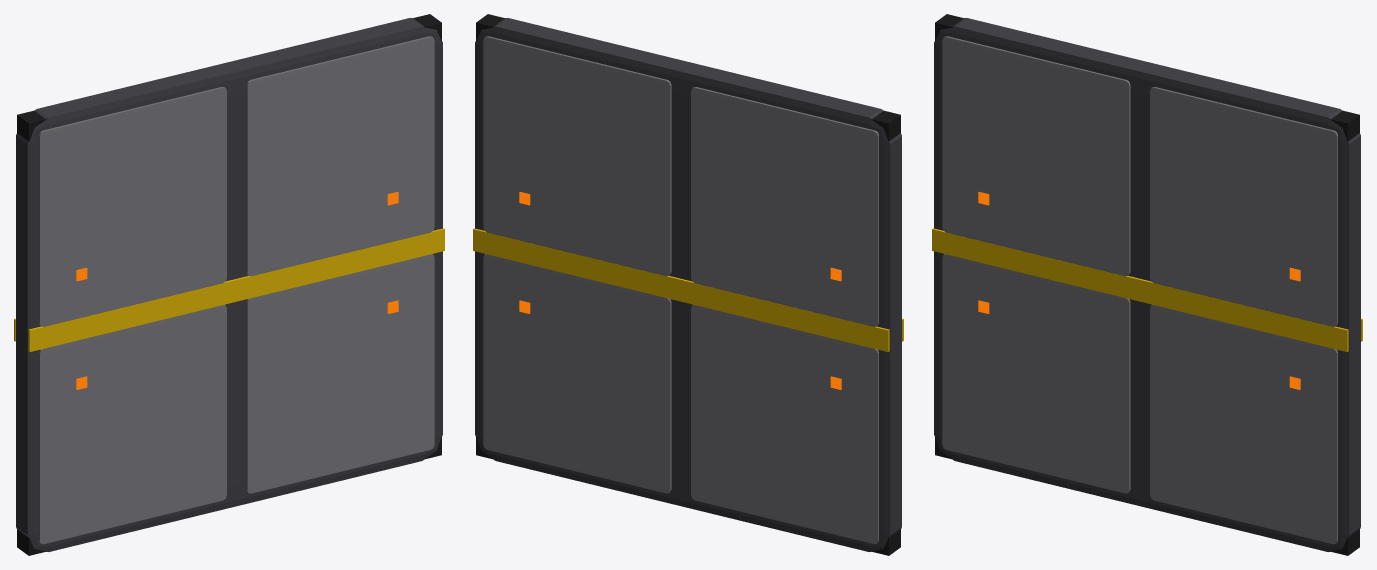
The model's file is datacenter_security_door.glb.
The picture shows the model from 3 angles, left to right: view 1: azimuth 30°, elevation 25°; view 2: azimuth 150°, elevation 25°; view 3: azimuth 330°, elevation 25°; orthographic projection.
Visible parts, largest first — view 1: Door_Main, Door_Details, Door_Indicators; view 2: Door_Main, Door_Details, Door_Indicators; view 3: Door_Main, Door_Details, Door_Indicators.
Boxes of the visible parts, <box> form: Door_Main: <box>16,18,442,551</box>; Door_Details: <box>14,14,444,555</box>; Door_Indicators: <box>76,192,398,389</box>; Door_Main: <box>475,18,901,551</box>; Door_Details: <box>473,14,903,555</box>; Door_Indicators: <box>519,192,841,389</box>; Door_Main: <box>934,18,1360,551</box>; Door_Details: <box>932,14,1362,555</box>; Door_Indicators: <box>978,192,1300,389</box>.
Size of the model in its own units: 4 by 4 by 0.28.
